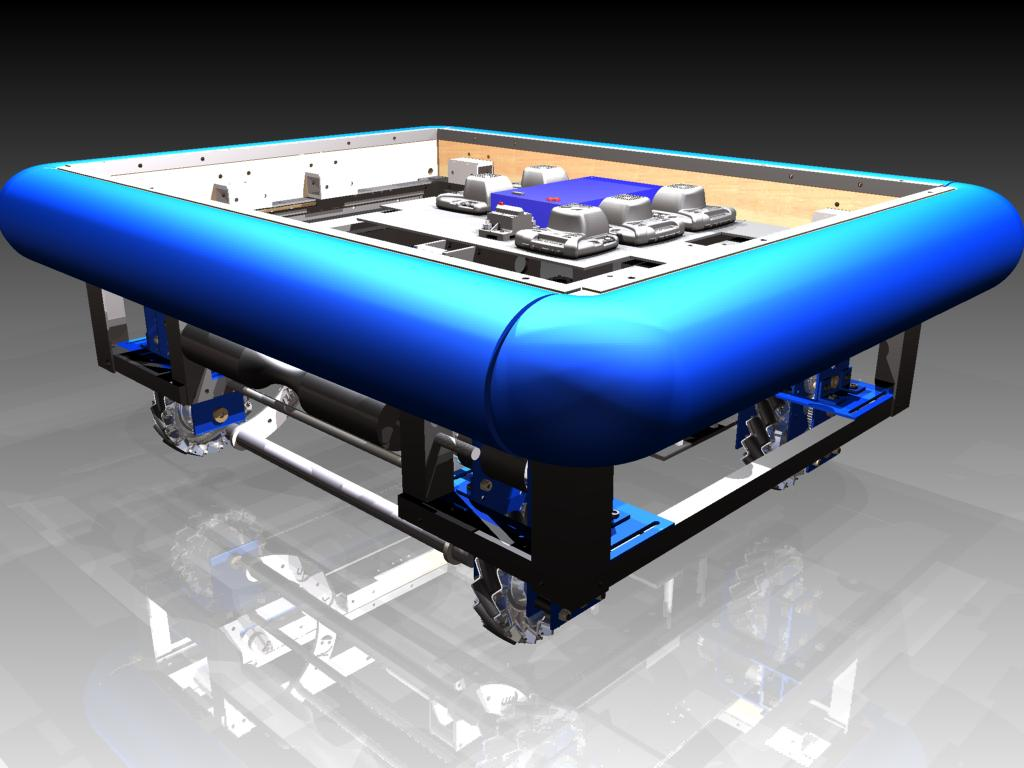robot: (3, 118, 1024, 652)
